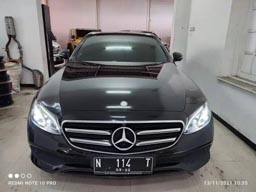plat: (93, 157, 152, 167)
